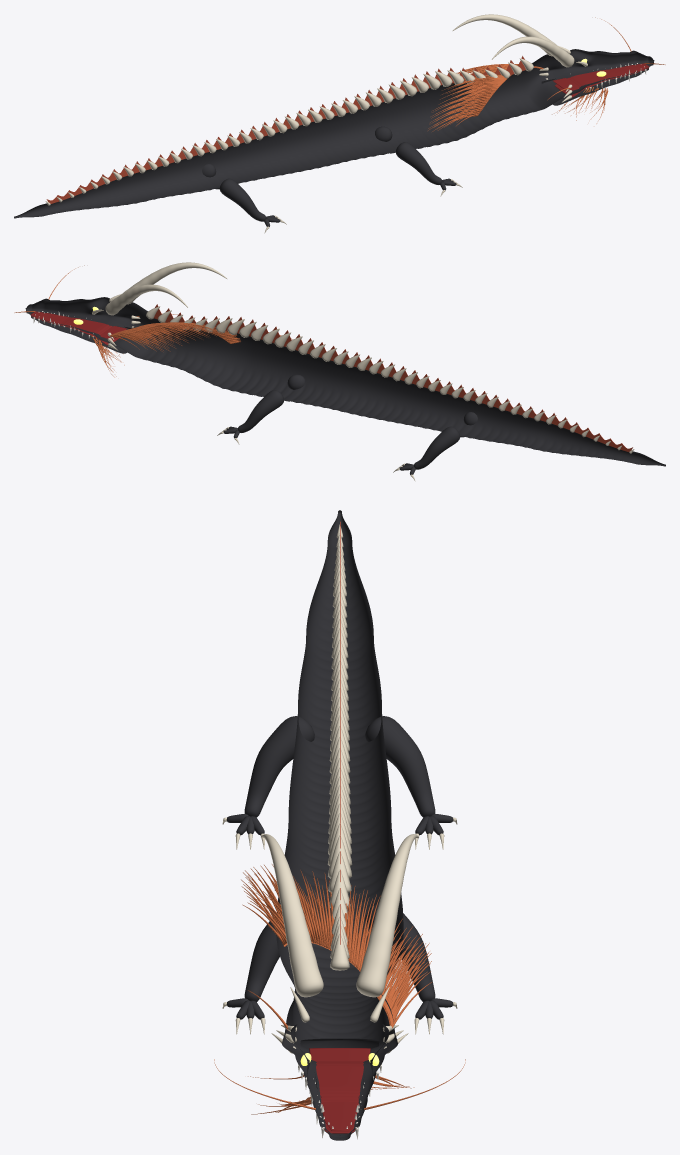
3 renders of one model, top to bottom at view 1: azimuth 30°, elevation 25°; view 2: azimuth 150°, elevation 25°; view 3: azimuth 270°, elevation 25°, orthographic. The views are drawn at different scales.
Visible parts, largest first — view 1: body, spikes, fin, mane, mouth, jaw, jawbeard, jawmouth; view 2: body, spikes, fin, mane, mouth, jaw, jawmouth; view 3: body, spikes, mane, mouth, jawmouth, jaw.
Boxes of the visible parts, bbox=[...] form: body: bbox=[14, 49, 654, 226]; spikes: bbox=[45, 14, 587, 233]; fin: bbox=[46, 56, 525, 203]; mane: bbox=[428, 17, 665, 131]; mouth: bbox=[555, 63, 649, 97]; jaw: bbox=[541, 63, 648, 105]; jawbeard: bbox=[552, 86, 608, 123]; jawmouth: bbox=[553, 64, 646, 91]; body: bbox=[25, 297, 665, 474]; spikes: bbox=[92, 262, 634, 481]; fin: bbox=[154, 304, 632, 451]; mane: bbox=[14, 265, 292, 351]; mouth: bbox=[30, 311, 120, 345]; jaw: bbox=[31, 311, 131, 353]; jawmouth: bbox=[33, 312, 126, 339]; body: bbox=[226, 510, 453, 1137]; spikes: bbox=[222, 524, 457, 1053]; mane: bbox=[214, 864, 465, 1109]; mouth: bbox=[315, 1061, 364, 1133]; jawmouth: bbox=[309, 1048, 370, 1130]; jaw: bbox=[300, 1038, 379, 1140].
Bounding box in the file's own units: 10.9 × 2.06 × 1.86.
